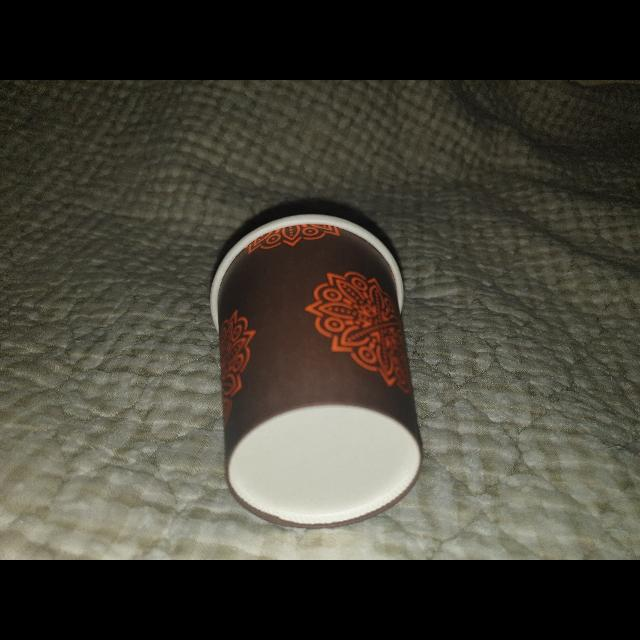trash: (204, 204, 430, 530)
